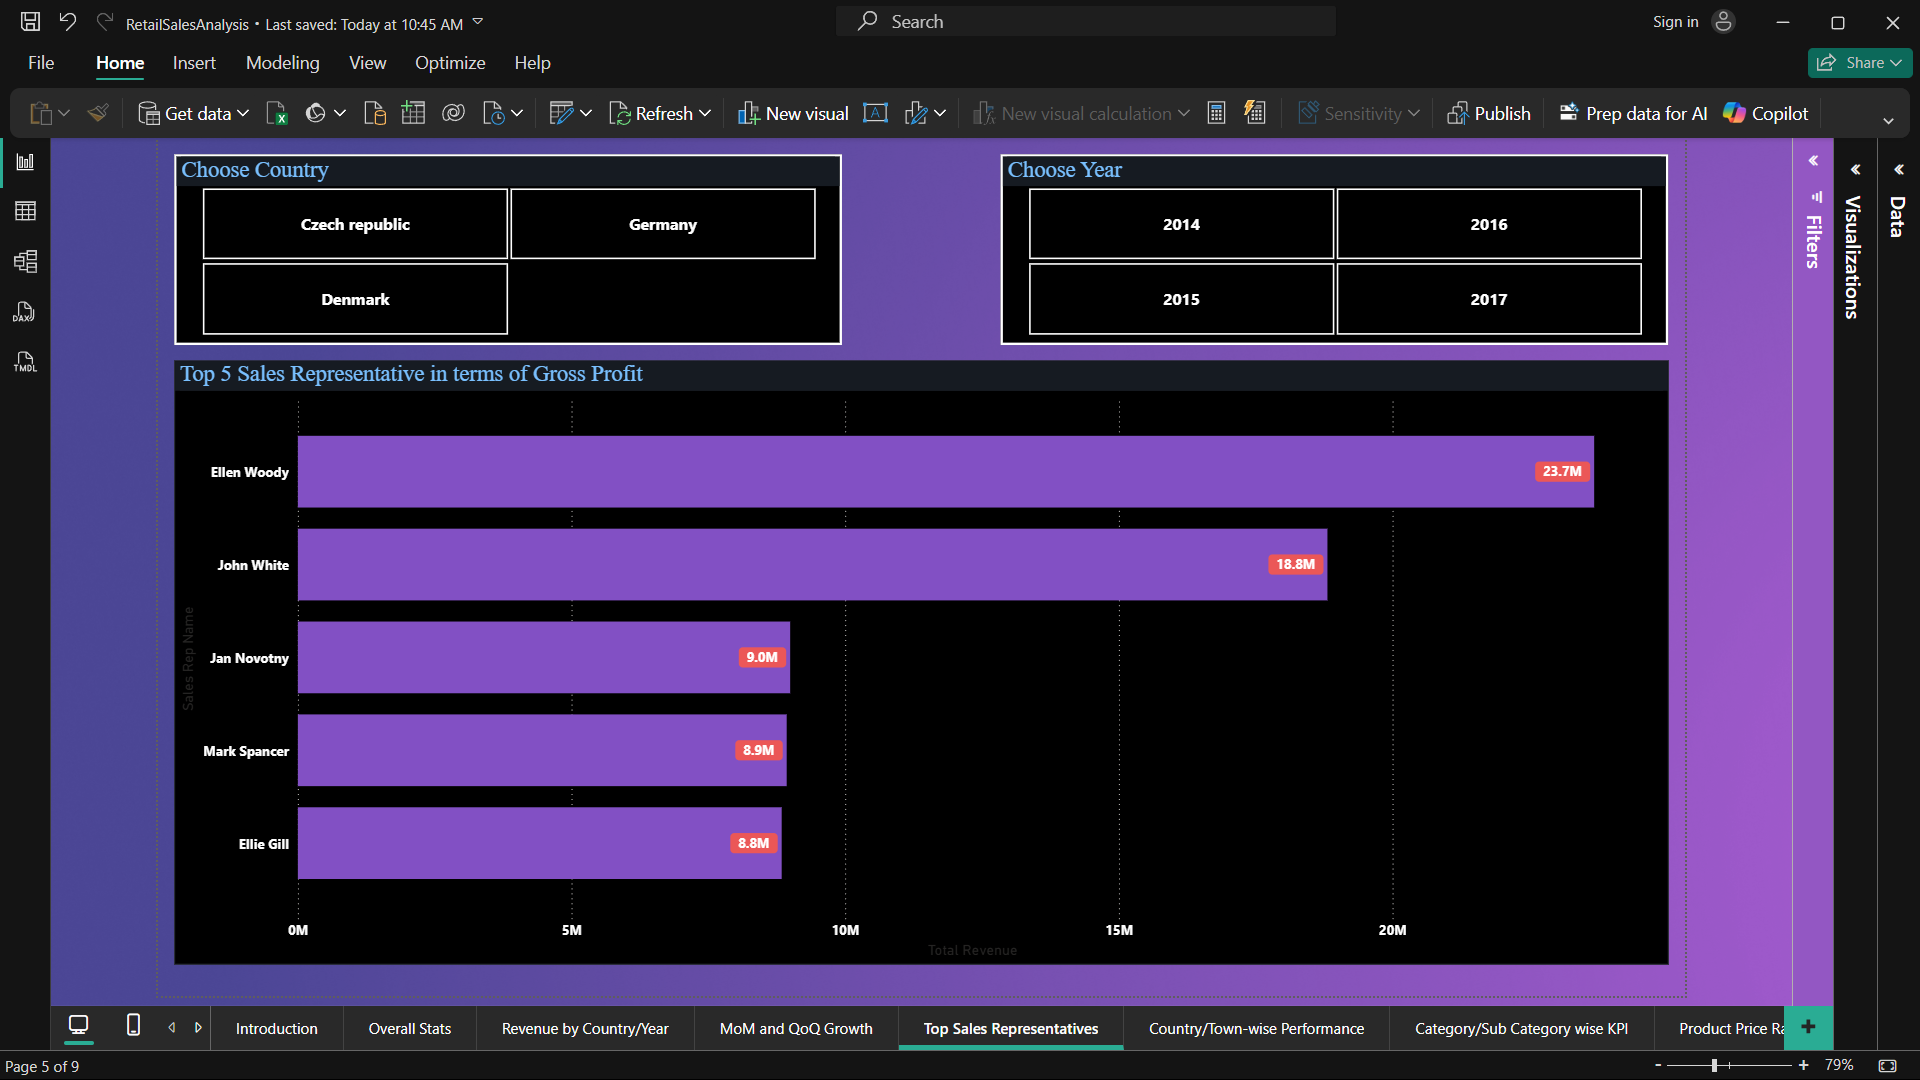

The dashboard page shown, as its layout file describes it:
{"tool":"powerbi","page":{"name":"Top Sales Representatives","canvas":[1536,864],"ordinal":4},"visuals":[{"type":"slicer","title":"Choose Country","fields":{"Values":["DimGeography.Country"]},"box":[16,16,672,192],"z":0},{"type":"slicer","title":"Choose Year","fields":{"Values":["CalendarMaster.Year"]},"box":[848,16,672,192],"z":1000},{"type":"clusteredBarChart","title":"Top 5 Sales Representative in terms of Gross Profit","fields":{"Y":["FactSales.Total Gross Profit"],"Category":["DimSalesRep.Sales Rep Name"]},"box":[16,224,1504,608],"z":2000}]}

Visuals, with their boxes on the page's 1536x864 design canvas (x1, y1, x2, y2). These are canvas units, not pixel positions in the 1920x1080 screenshot, which may show the page scaled, cropped or inside an application window:
"Choose Country" slicer: (left=16, top=16, right=688, bottom=208)
"Choose Year" slicer: (left=848, top=16, right=1520, bottom=208)
"Top 5 Sales Representative in terms of Gross Profit" clusteredBarChart: (left=16, top=224, right=1520, bottom=832)
